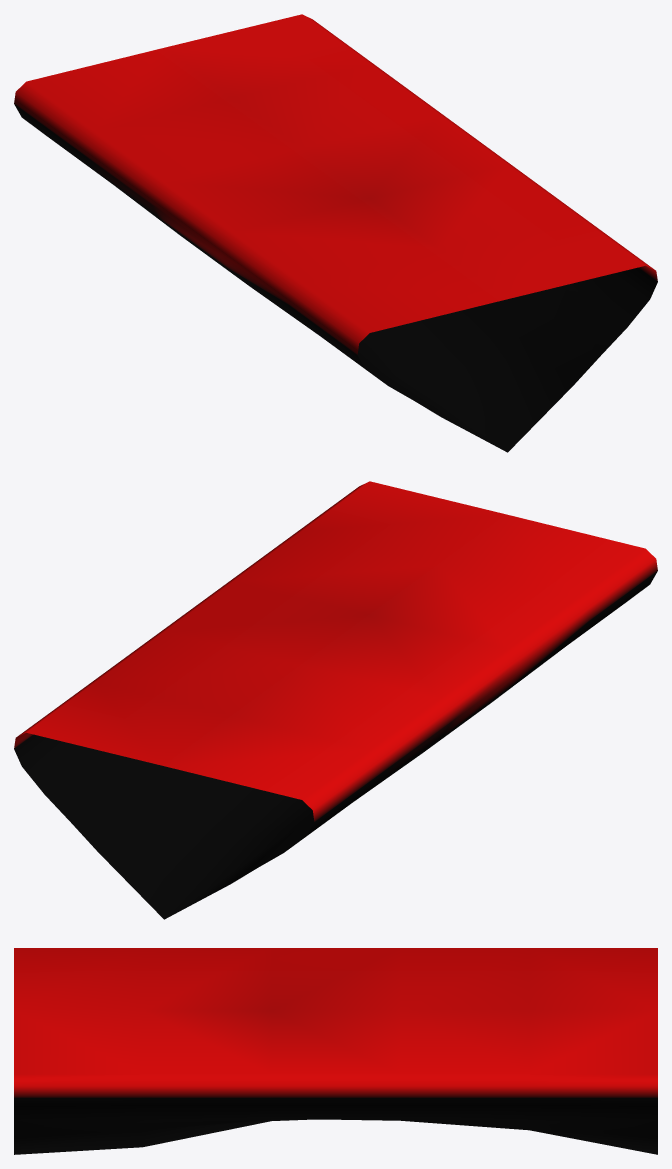
File: CrossingCliff01B 1M Background.fbx
The picture shows the model from 3 angles, top to bottom: view 1: azimuth 30°, elevation 25°; view 2: azimuth 150°, elevation 25°; view 3: azimuth 270°, elevation 25°; orthographic projection. The views are drawn at different scales.
Visible parts, largest first — view 1: CrossingCliff01B 1M Background; view 2: CrossingCliff01B 1M Background; view 3: CrossingCliff01B 1M Background.
Boxes of the visible parts, bbox=[...] form: CrossingCliff01B 1M Background: bbox=[14, 14, 657, 452]; CrossingCliff01B 1M Background: bbox=[14, 481, 657, 919]; CrossingCliff01B 1M Background: bbox=[14, 948, 657, 1154].
Bounding box in the file's own units: 1.01 × 0.493 × 2.
